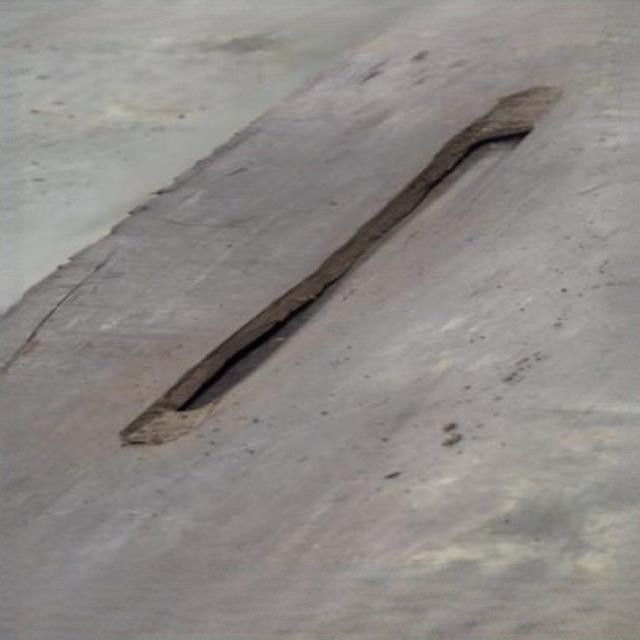Hole: (113, 80, 567, 453)
